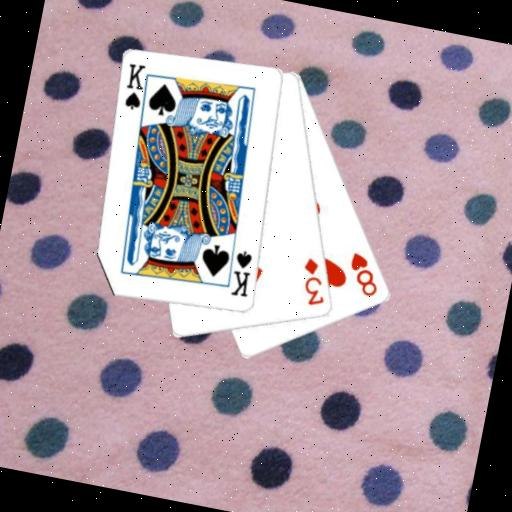3D: (294, 254, 335, 310)
8H: (341, 248, 386, 300)
KS: (118, 60, 155, 118), (226, 246, 258, 300)
